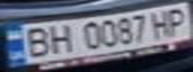0: (78, 19, 103, 51), (100, 17, 121, 47)
7: (130, 11, 151, 43)
8: (115, 15, 136, 45)
B: (18, 25, 54, 58)
H: (42, 21, 78, 55), (148, 8, 175, 39)
P: (163, 4, 193, 36)
